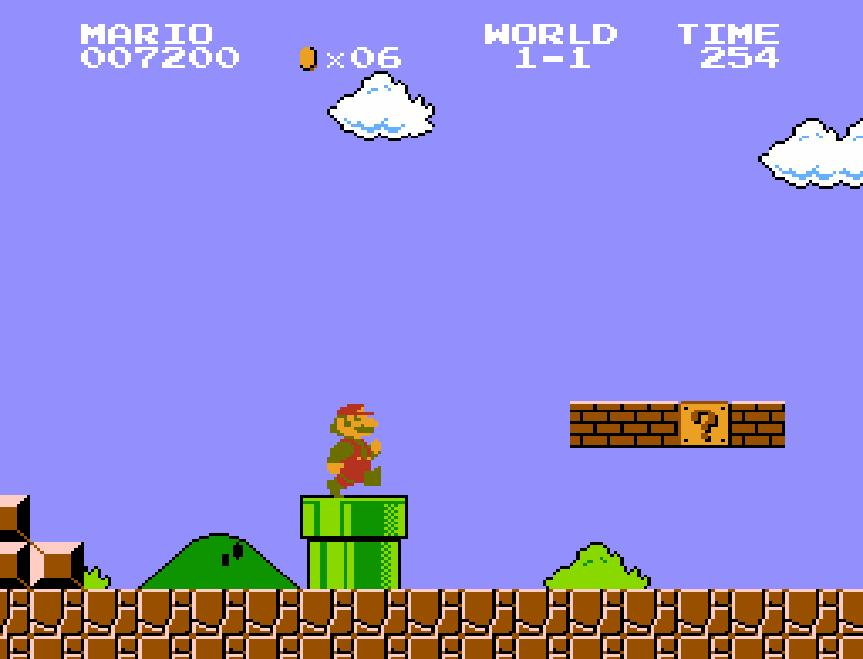big_mario: (324, 402, 382, 500)
